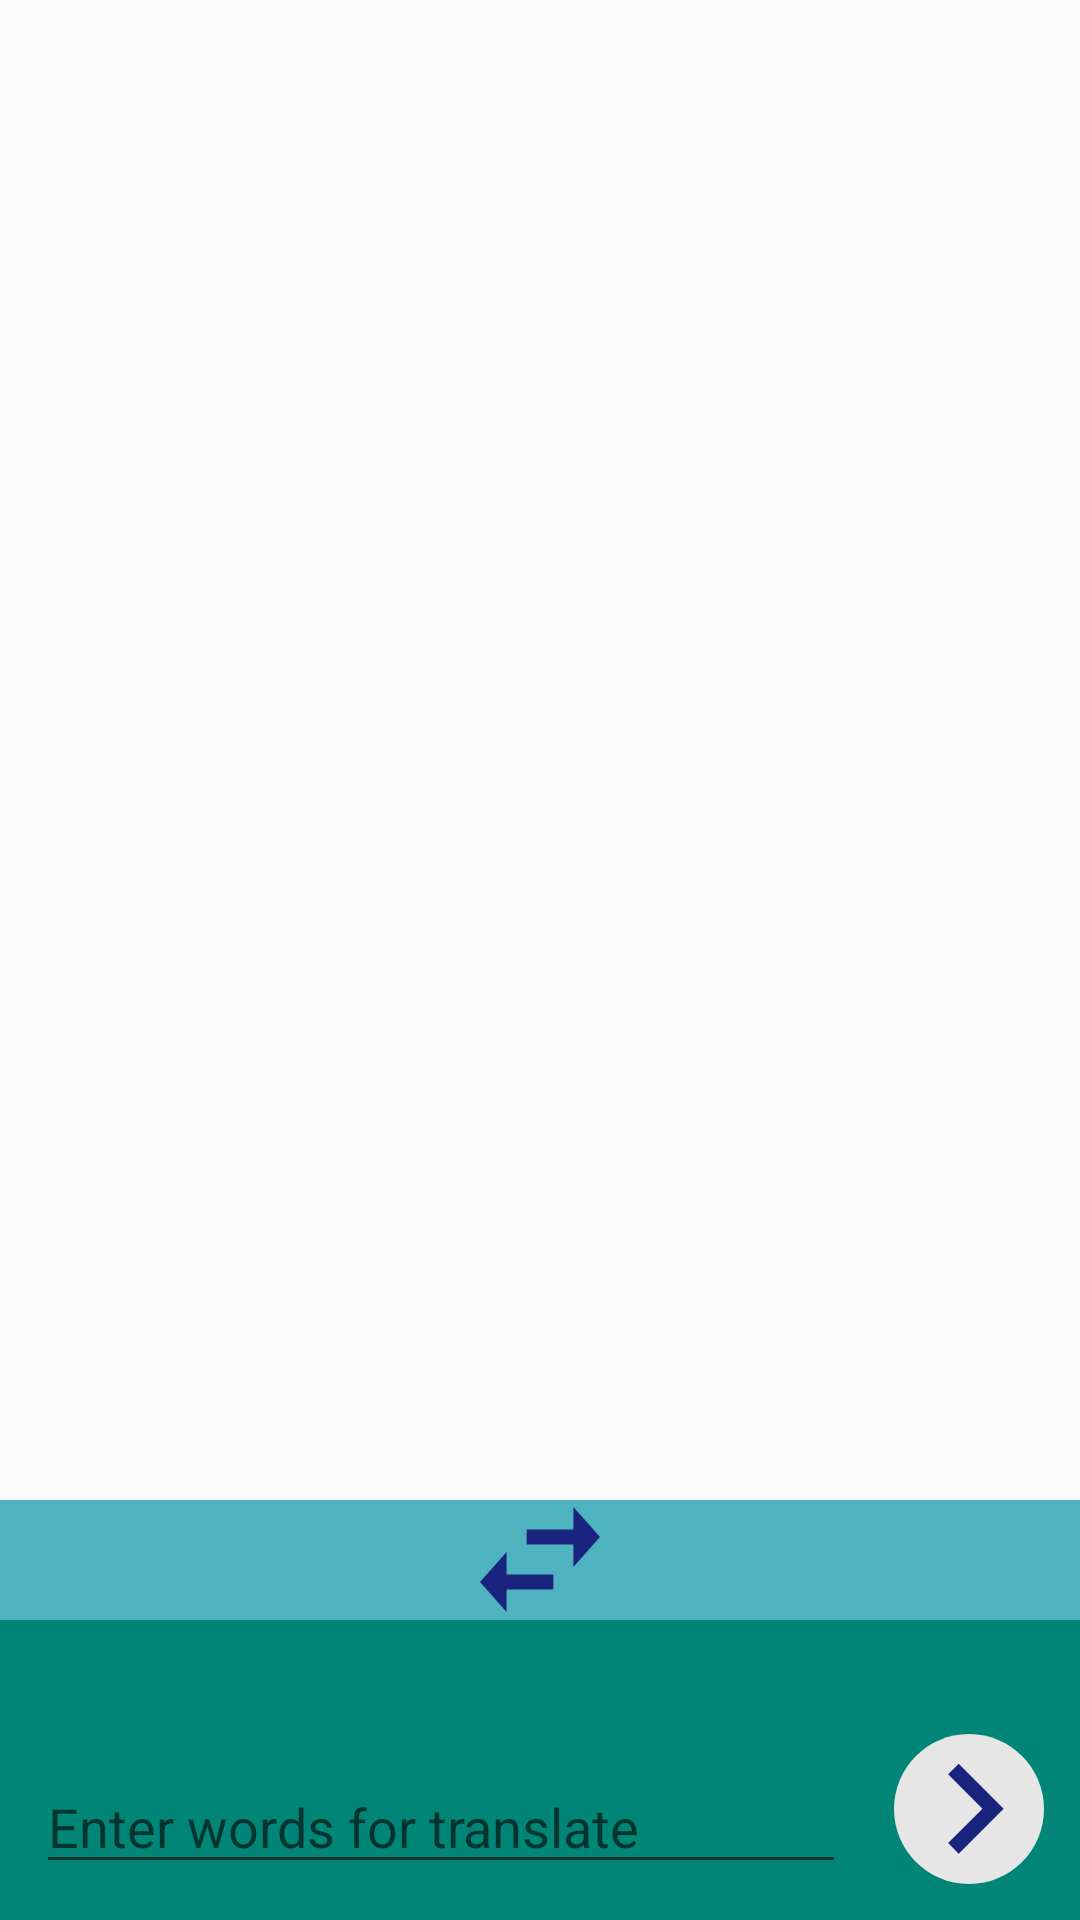

Icon click points for this 1080w x 1920h phone screenshot, format point (x, y):
direction: point (540, 1559)
go translate: point (969, 1809)
